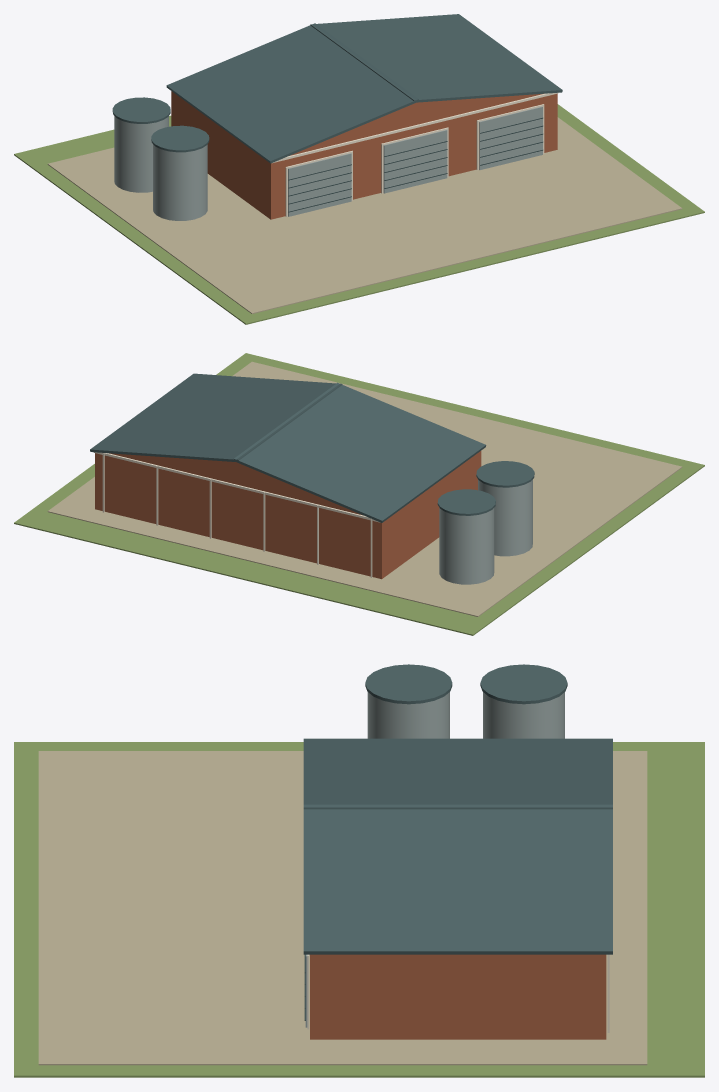
Rendered from agricultural-storage.glb.
The picture shows the model from 3 angles, top to bottom: view 1: azimuth 30°, elevation 25°; view 2: azimuth 150°, elevation 25°; view 3: azimuth 270°, elevation 25°; orthographic projection. The views are drawn at different scales.
Parts seen in each view (by area): view 1: agricultural-storage; view 2: agricultural-storage; view 3: agricultural-storage.
Boxes of the visible parts, x1,y1,x2,y2 form: agricultural-storage: (14, 14, 704, 324); agricultural-storage: (14, 353, 704, 635); agricultural-storage: (14, 664, 704, 1077).
Size of the model in its own units: 48 by 8.86 by 42.
